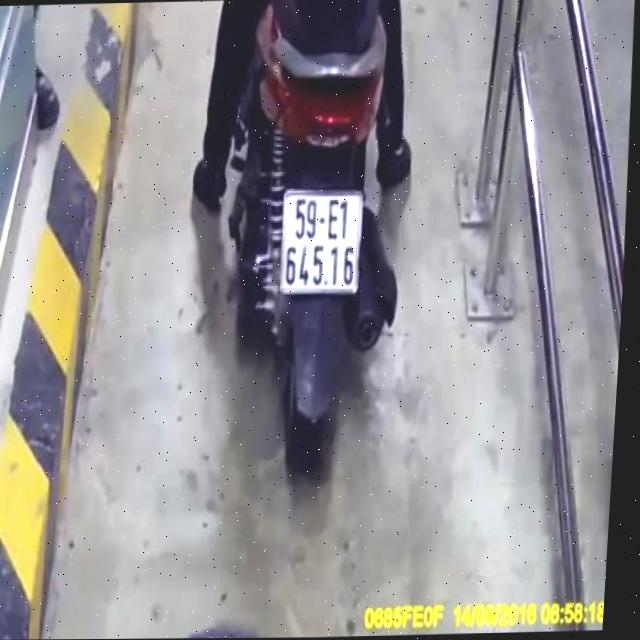motorcycle: (206, 0, 424, 483)
plate: (269, 183, 367, 298)
